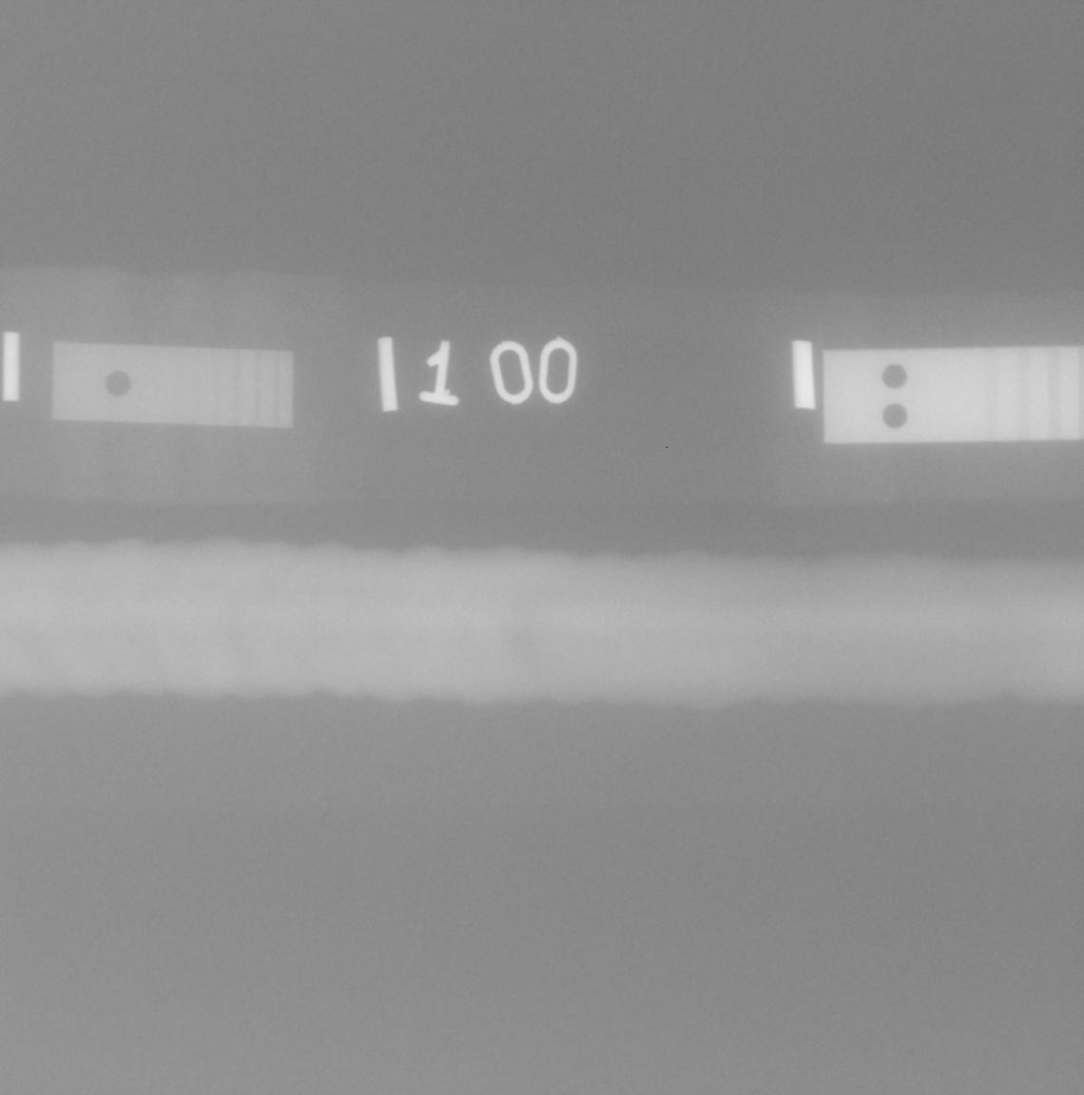Reference Standard 1: (52, 341, 293, 428)
